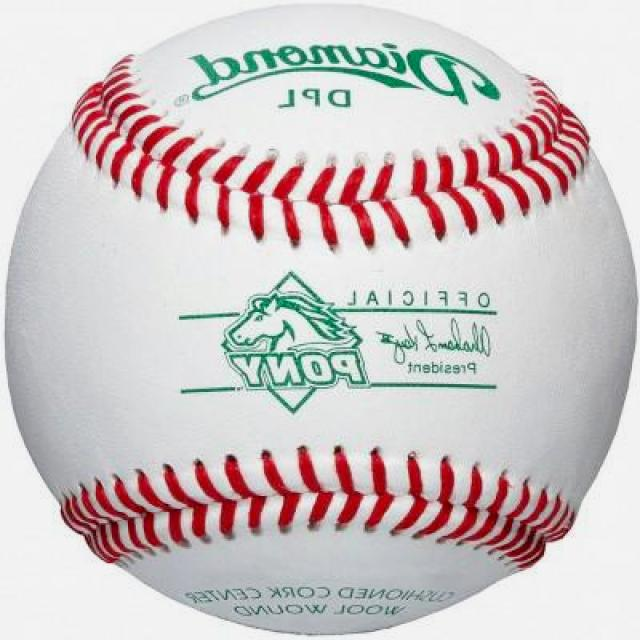ball: (0, 3, 639, 633)
